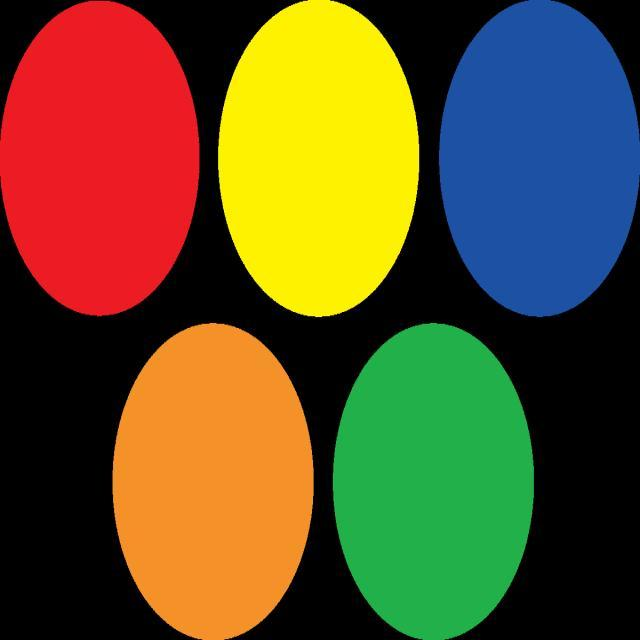Circle: (214, 0, 423, 321), (109, 318, 316, 640), (433, 1, 640, 322), (332, 324, 536, 640), (0, 0, 201, 320)
